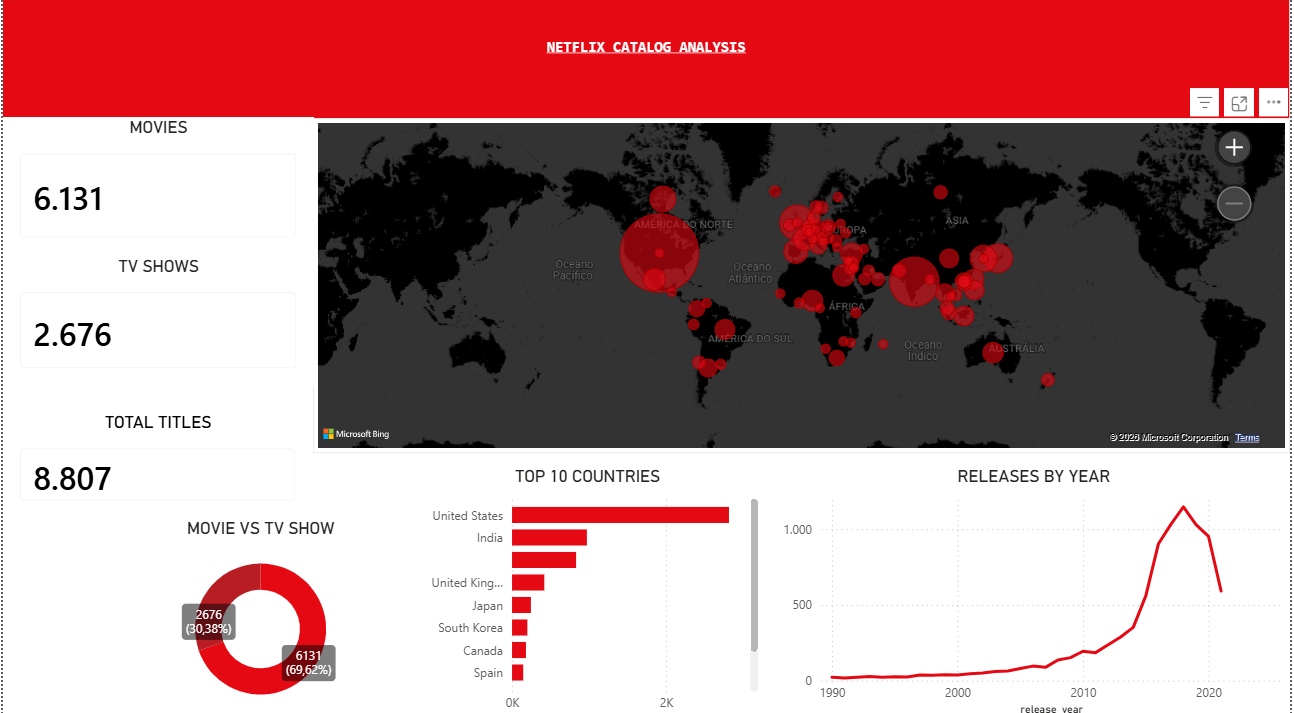

Layout of this report page (visuals, bound fields, positions):
{"tool":"powerbi","page":{"name":"Página 1","canvas":[1280,720],"ordinal":0},"visuals":[{"type":"barChart","fields":{"Category":["netflix_titles_limpo_2025 csv - netflix_titles.type"],"Y":["CountNonNull(netflix_titles_limpo_2025 csv - netflix_titles.type)"]},"box":[10,0,280,280],"z":0},{"type":"lineChart","fields":{"Category":["netflix_titles_limpo_2025 csv - netflix_titles.release_year"],"Y":["CountNonNull(netflix_titles_limpo_2025 csv - netflix_titles.title)"]},"box":[9.6,299.1,369.1,310.1],"z":1000},{"type":"map","fields":{"Category":["netflix_titles_limpo_2025 csv - netflix_titles.country"],"Size":["CountNonNull(netflix_titles_limpo_2025 csv - netflix_titles.title)"]},"box":[388.3,0,594.2,359.5],"z":2000},{"type":"donutChart","fields":{"Category":["netflix_titles_limpo_2025 csv - netflix_titles.type"],"Y":["CountNonNull(netflix_titles_limpo_2025 csv - netflix_titles.title)"]},"box":[397.9,360.9,378.7,292.3],"z":3000},{"type":"actionButton","box":[0,0,100,40],"z":4000}]}

Visuals, with their boxes on the page's 1280x720 design canvas (x1, y1, x2, y2). These are canvas units, not pixel positions in the 1294x713 screenshot, which may show the page scaled, cropped or inside an application window:
barChart - netflix_titles_limpo_2025 csv - netflix_titles.type x CountNonNull(netflix_titles_limpo_2025 csv - netflix_titles.type): 10/0/290/280
lineChart - netflix_titles_limpo_2025 csv - netflix_titles.release_year x CountNonNull(netflix_titles_limpo_2025 csv - netflix_titles.title): 10/299/379/609
map - netflix_titles_limpo_2025 csv - netflix_titles.country x CountNonNull(netflix_titles_limpo_2025 csv - netflix_titles.title): 388/0/982/360
donutChart - netflix_titles_limpo_2025 csv - netflix_titles.type x CountNonNull(netflix_titles_limpo_2025 csv - netflix_titles.title): 398/361/777/653
actionButton: 0/0/100/40
